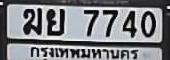0: (140, 10, 155, 36)
4: (122, 10, 136, 37)
7: (83, 8, 98, 36), (102, 9, 117, 36)
A06: (22, 7, 40, 34)
A34: (46, 8, 64, 35)
BKK: (27, 44, 140, 60)
